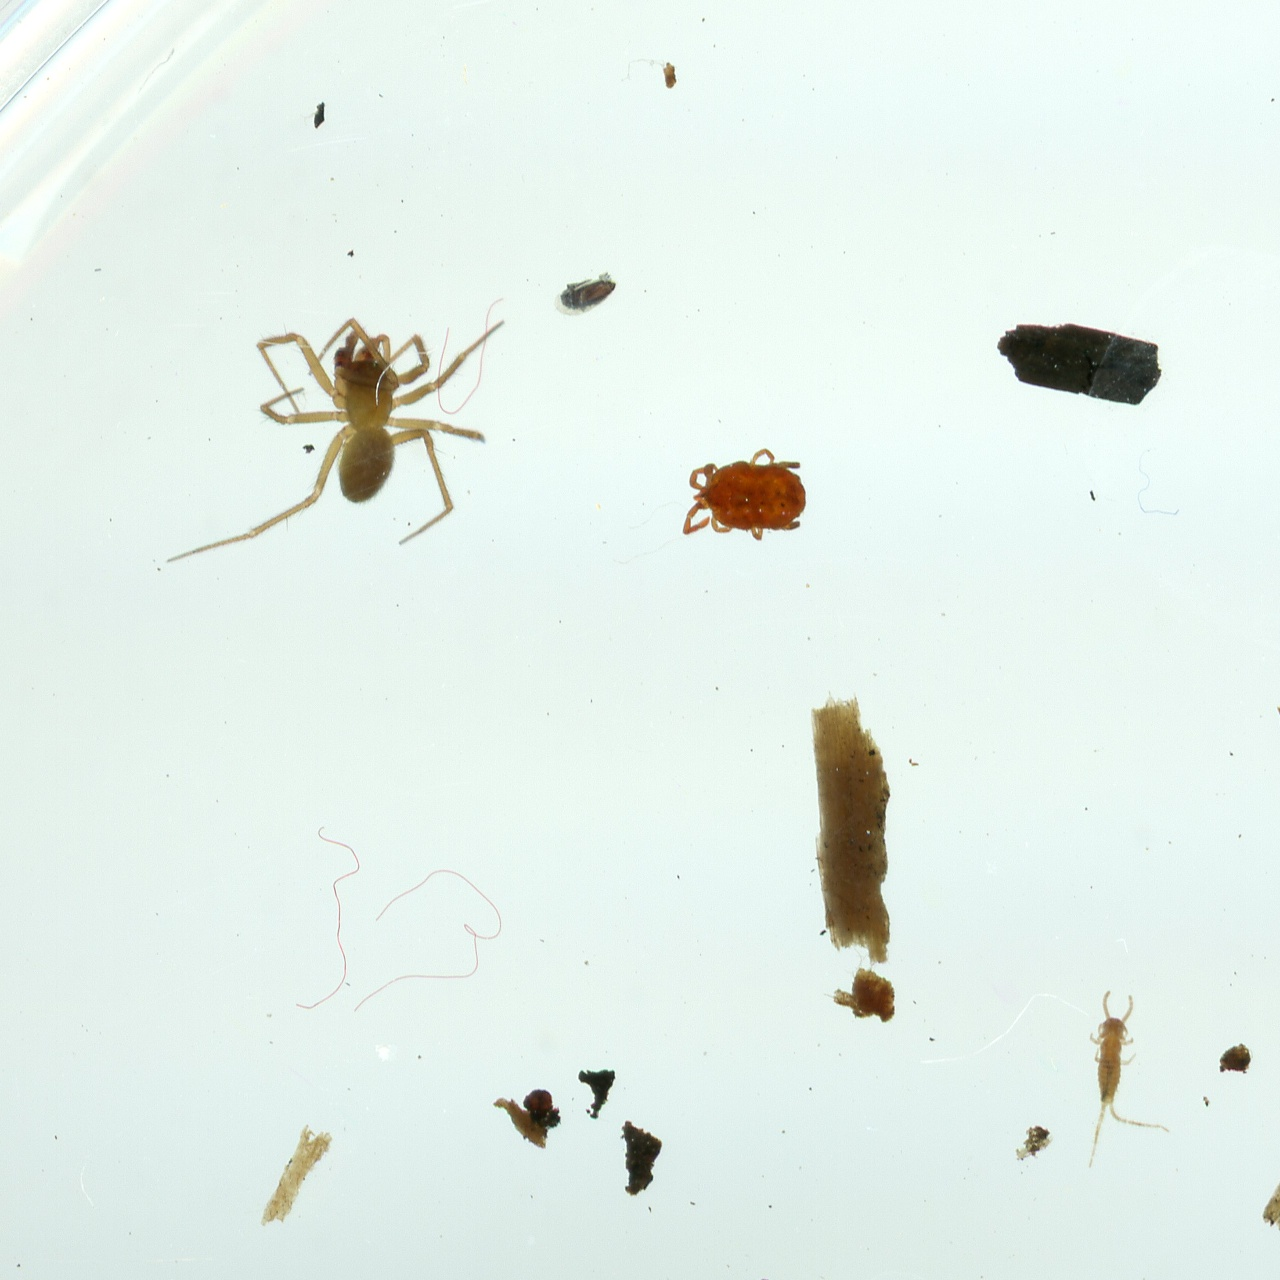arthropod: (163, 314, 510, 572), (1080, 988, 1180, 1175), (676, 445, 811, 544), (549, 268, 622, 322)
